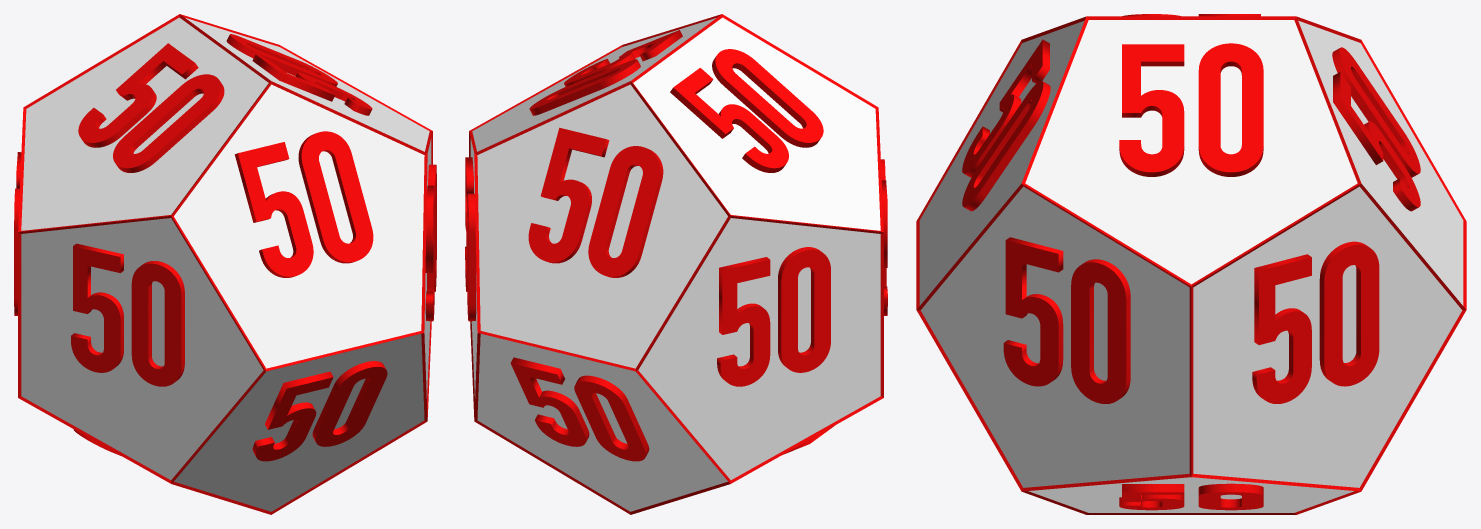
The model's file is dodecahedron_sign-50.glb.
The picture shows the model from 3 angles, left to right: view 1: azimuth 30°, elevation 25°; view 2: azimuth 150°, elevation 25°; view 3: azimuth 270°, elevation 25°; orthographic projection. The views are drawn at different scales.
Visible parts, largest first — view 1: Dodecahedron_Solid, Text20_5, Text20_11, Dodecahedron_Wire, Text20_7, Text20_10, Text20_2, Text20_6, Text20_8; view 2: Dodecahedron_Solid, Text20_0, Text20_8, Dodecahedron_Wire, Text20_7, Text20_3, Text20_2, Text20_1, Text20_11; view 3: Dodecahedron_Solid, Text20_6, Dodecahedron_Wire, Text20_1, Text20_2, Text20_5, Text20_0, Text20_4.
Boxes of the visible parts, x1,y1,x2,y2 form: Dodecahedron_Solid: [21, 17, 431, 511]; Text20_5: [234, 131, 373, 277]; Text20_11: [71, 243, 184, 386]; Dodecahedron_Wire: [18, 14, 432, 514]; Text20_7: [78, 43, 224, 172]; Text20_10: [252, 361, 387, 461]; Text20_2: [226, 34, 372, 115]; Text20_6: [425, 164, 436, 321]; Text20_8: [14, 152, 21, 315]; Dodecahedron_Solid: [470, 17, 880, 511]; Text20_0: [528, 127, 663, 277]; Text20_8: [717, 247, 830, 386]; Dodecahedron_Wire: [469, 14, 883, 514]; Text20_7: [670, 49, 823, 172]; Text20_3: [510, 357, 649, 461]; Text20_2: [529, 30, 682, 115]; Text20_1: [465, 157, 476, 321]; Text20_11: [881, 159, 887, 315]; Dodecahedron_Solid: [919, 20, 1463, 512]; Text20_6: [1003, 237, 1130, 403]; Dodecahedron_Wire: [916, 16, 1466, 514]; Text20_1: [1252, 241, 1379, 403]; Text20_2: [1119, 43, 1263, 176]; Text20_5: [962, 39, 1050, 211]; Text20_0: [1332, 47, 1420, 211]; Text20_4: [1119, 483, 1263, 510].
Bounding box in the file's own units: 3.26 × 3.26 × 3.26.
